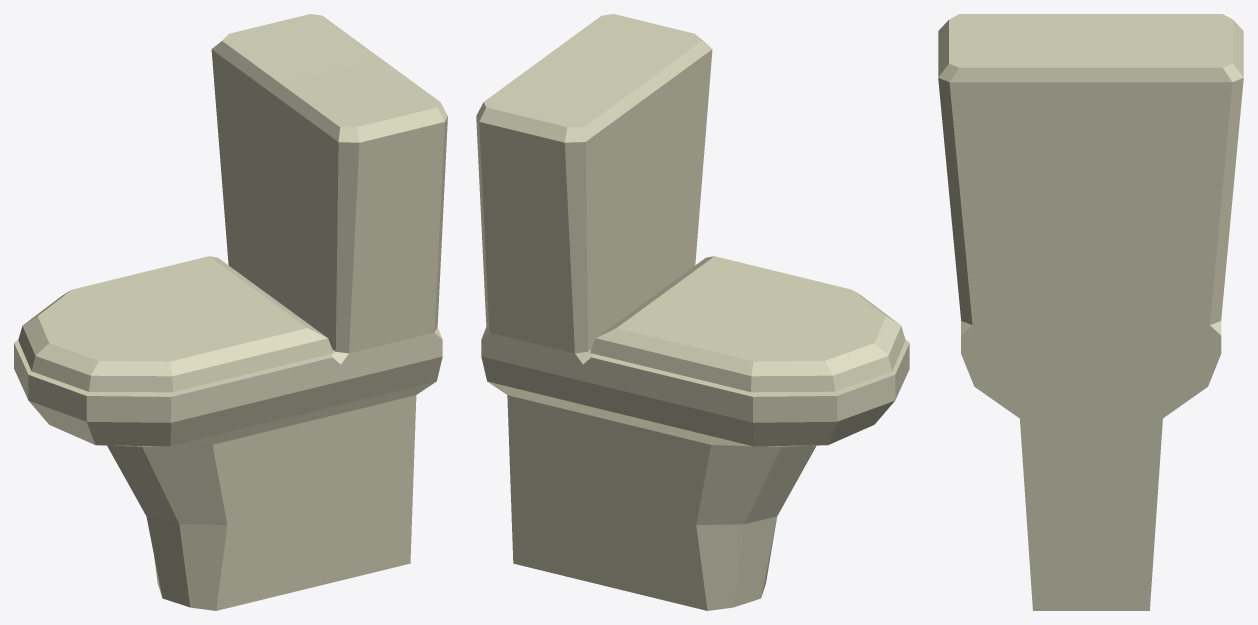
The model's file is унитаз.fbx.
The picture shows the model from 3 angles, left to right: view 1: azimuth 30°, elevation 25°; view 2: azimuth 150°, elevation 25°; view 3: azimuth 270°, elevation 25°; orthographic projection. The views are drawn at different scales.
Parts seen in each view (by area): view 1: Cube.039; view 2: Cube.039; view 3: Cube.039.
Boxes of the visible parts, <box> form: Cube.039: <box>14,14,447,610</box>; Cube.039: <box>476,14,909,610</box>; Cube.039: <box>938,14,1243,610</box>.
Bounding box in the file's own units: 872 × 1139 × 582.
